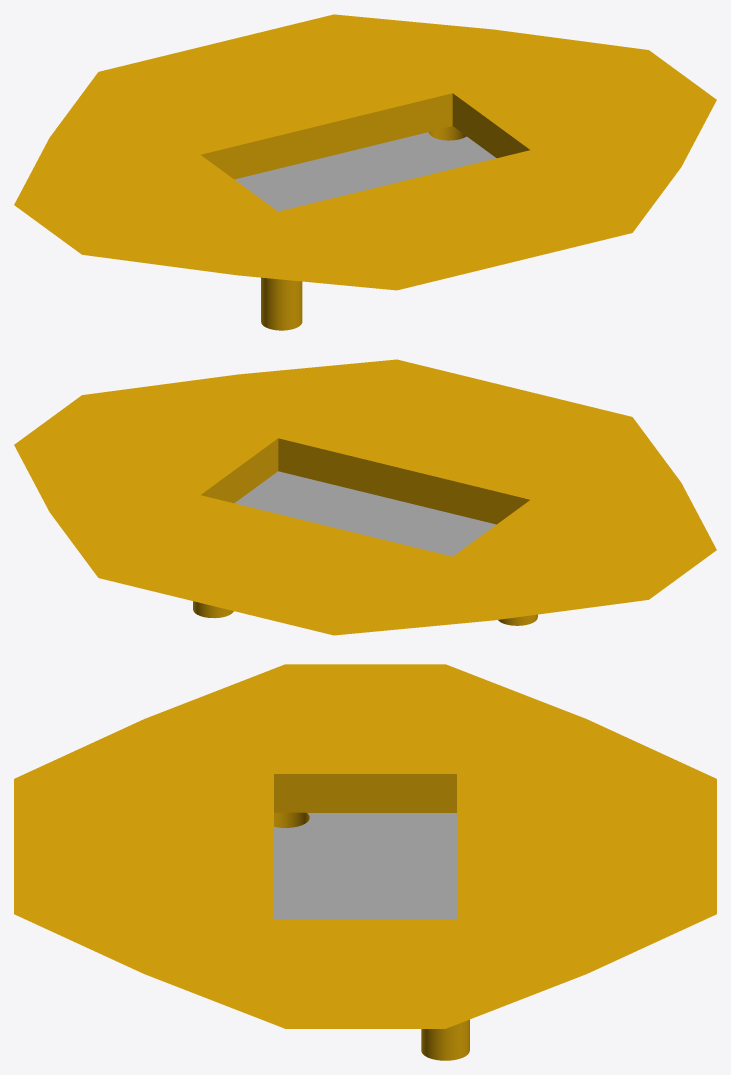
The model's file is arena.fbx.
The picture shows the model from 3 angles, top to bottom: view 1: azimuth 30°, elevation 25°; view 2: azimuth 150°, elevation 25°; view 3: azimuth 270°, elevation 25°; orthographic projection. The views are drawn at different scales.
Parts seen in each view (by area): view 1: arena; view 2: arena; view 3: arena.
Part boxes in pixels (x1,y1,x2,y2): arena: (14,14,716,330); arena: (14,359,716,635); arena: (14,664,716,1060).
Size of the model in its own units: 151 by 26.31 by 123.
